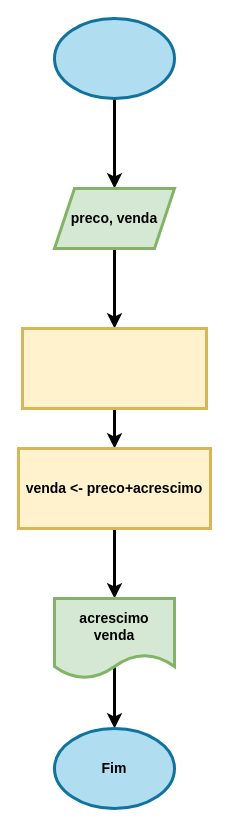
Image size: 229x827. Some labels were removed from this diagram. The box of each missing label's shape, as (x1, y1, x2, y2) in pixels:
acrescimo <- 65/100*preco: (20, 326, 208, 410)
Inicio: (52, 16, 176, 100)
